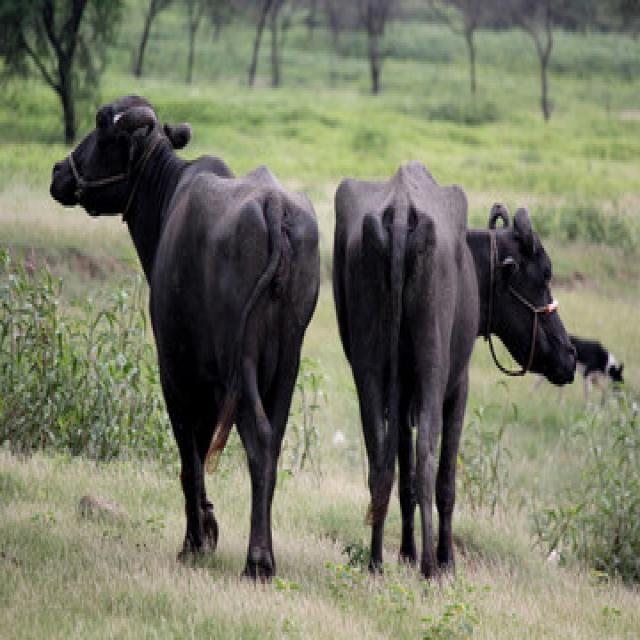Buffalo: (47, 92, 325, 573), (331, 160, 578, 585)
